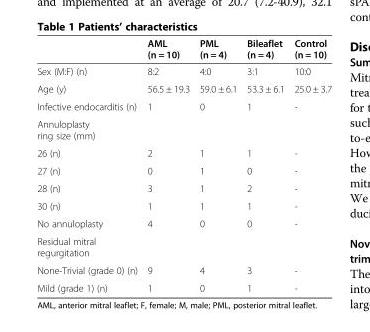table: (36, 37, 331, 293)
table column: (36, 37, 141, 293), (141, 37, 194, 293), (194, 37, 241, 293), (241, 37, 288, 293), (288, 37, 331, 293)
table column header: (36, 37, 331, 62)
table projected row header: (36, 114, 331, 143), (36, 232, 331, 261)
table row: (36, 114, 331, 143), (36, 232, 331, 261), (36, 37, 331, 62), (36, 79, 331, 97), (36, 143, 331, 161), (36, 161, 331, 179), (36, 196, 331, 214), (36, 214, 331, 232), (36, 62, 331, 79), (36, 97, 331, 114), (36, 179, 331, 196), (36, 261, 331, 278), (36, 278, 331, 293)
